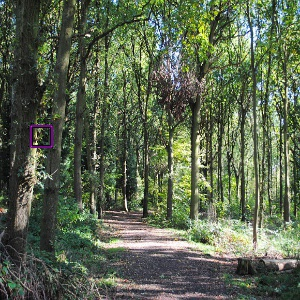square: (28, 122, 54, 151)
